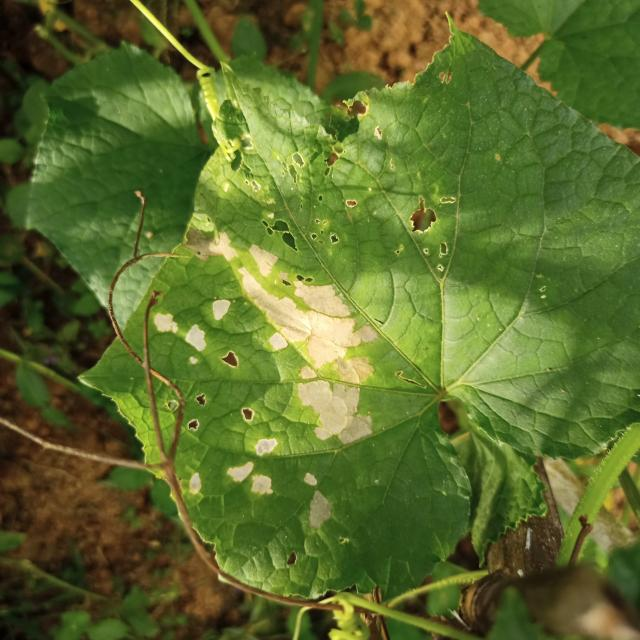disease_cucumber: (150, 227, 380, 535)
